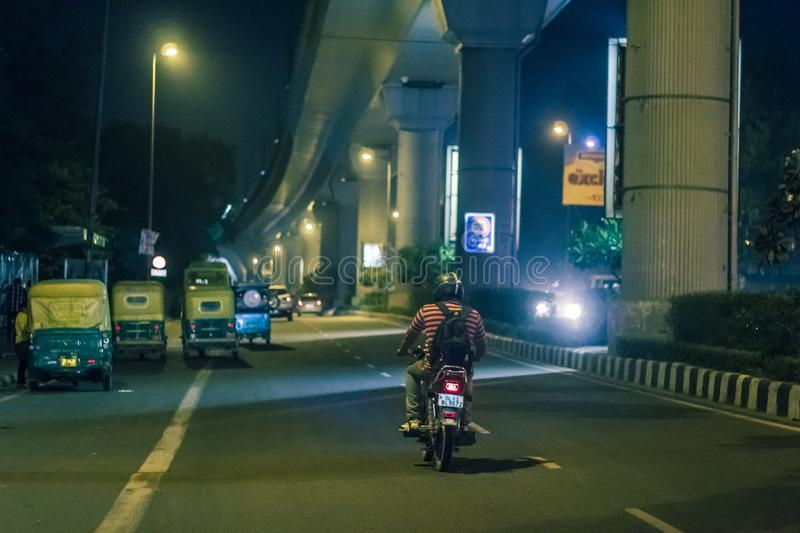With Helmet: (427, 267, 487, 306)
